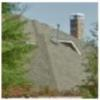chimneys: (69, 12, 85, 40)
